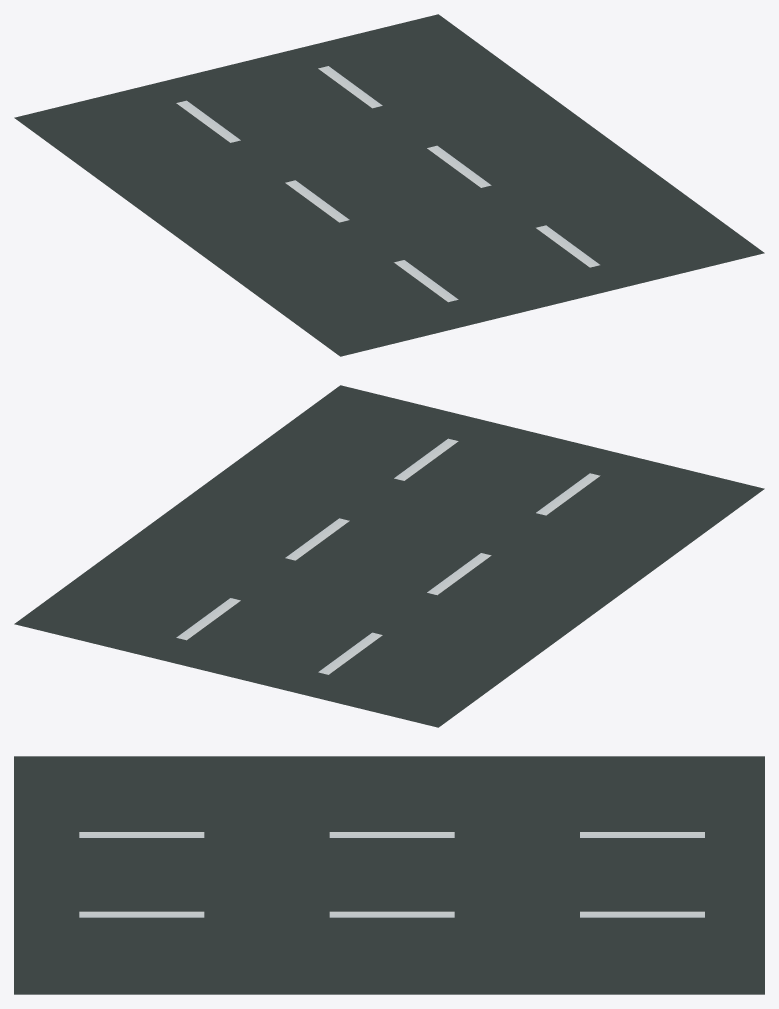
Rendered from Road_2_302.fbx.
3 views of the same model, one above another, from view 1: azimuth 30°, elevation 25°; view 2: azimuth 150°, elevation 25°; view 3: azimuth 270°, elevation 25° (orthographic). The views are drawn at different scales.
Parts seen in each view (by area): view 1: Road_2_302; view 2: Road_2_302; view 3: Road_2_302.
Boxes of the visible parts, x1,y1,x2,y2 form: Road_2_302: (14, 14, 764, 356); Road_2_302: (14, 385, 764, 727); Road_2_302: (14, 756, 764, 994).
Size of the model in its own units: 1351 by 1.66 by 1800.
